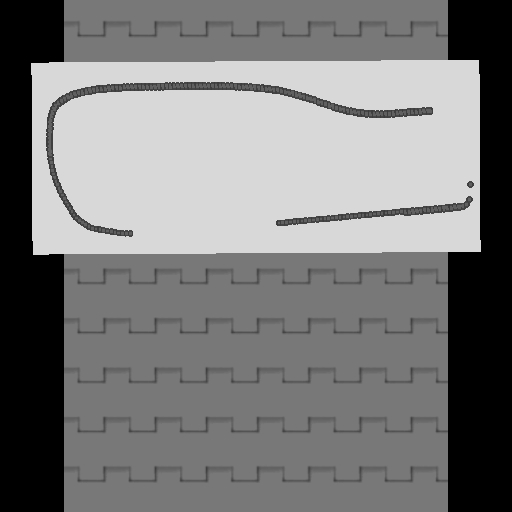Defect: (131, 214, 277, 240)
